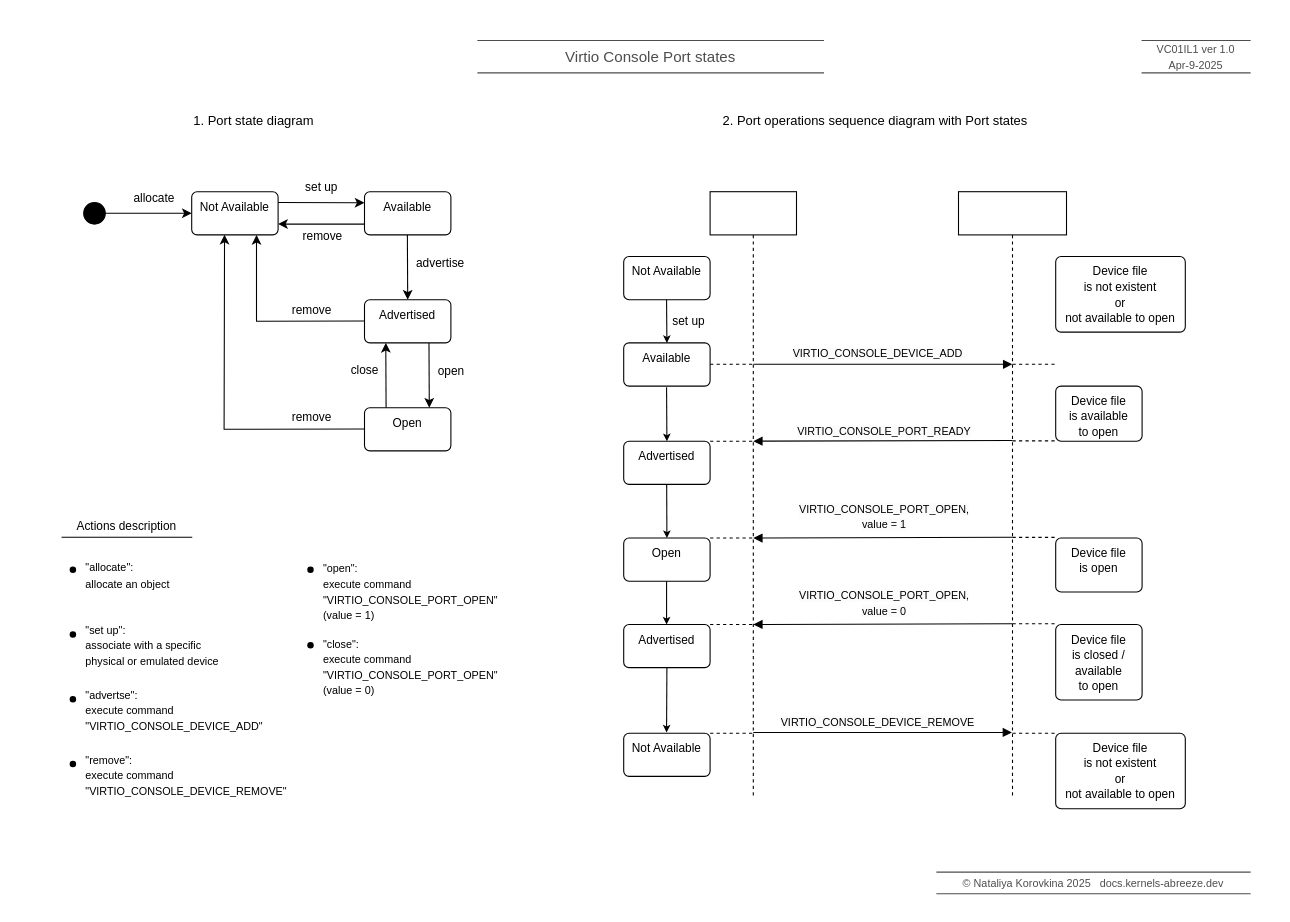
Some shapes in this 1290 by 922 pixel diagram are drawn without their labels. The shapes that lost their labels are listed below. From the top down, each one's box as (x1, y1, x2, y2) in pixels, then its label:
(709, 191, 796, 796): Port, VMM view
(957, 191, 1066, 796): Port, Guest OS view
